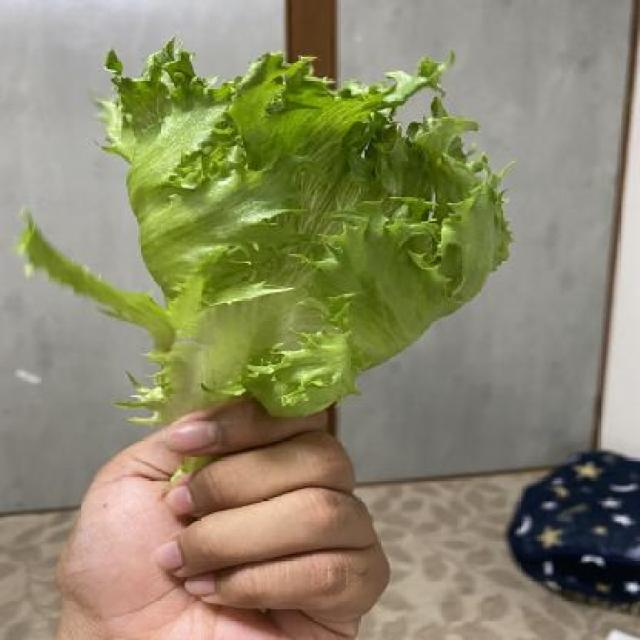Lettuce head: (19, 35, 519, 489)
